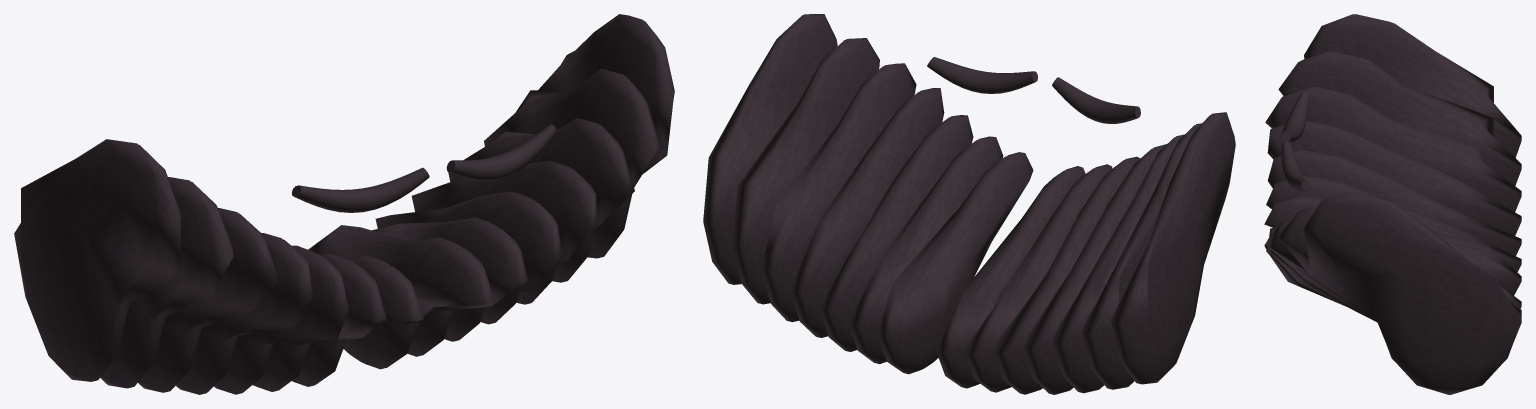
The model's file is facial_sheet_full_beard_default.gltf.
The picture shows the model from 3 angles, left to right: view 1: azimuth 30°, elevation 25°; view 2: azimuth 150°, elevation 25°; view 3: azimuth 270°, elevation 25°; orthographic projection. The views are drawn at different scales.
Visible parts, largest first — view 1: Full Beard; view 2: Full Beard; view 3: Full Beard.
Part boxes in pixels (x1,y1,x2,y2): Full Beard: [14, 14, 674, 394]; Full Beard: [703, 14, 1235, 394]; Full Beard: [1264, 14, 1521, 394].
Size of the model in its own units: 0.3971 by 0.2302 by 0.2222.
1 material, 1 textured.
